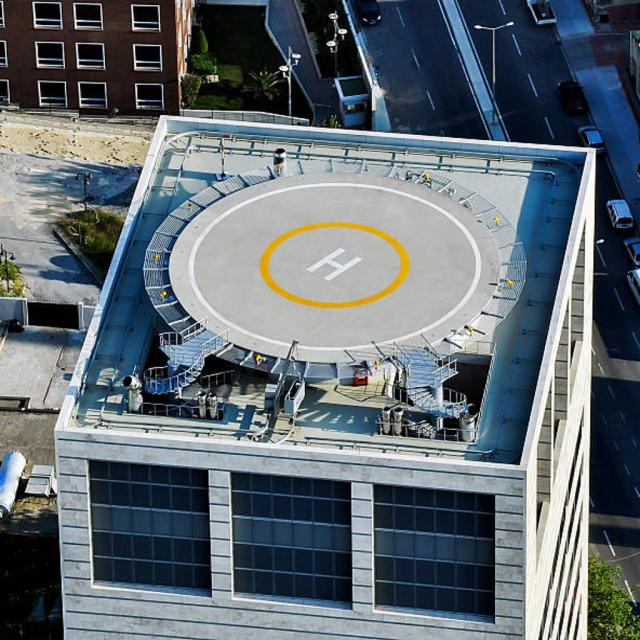helipad: (257, 218, 409, 313)
